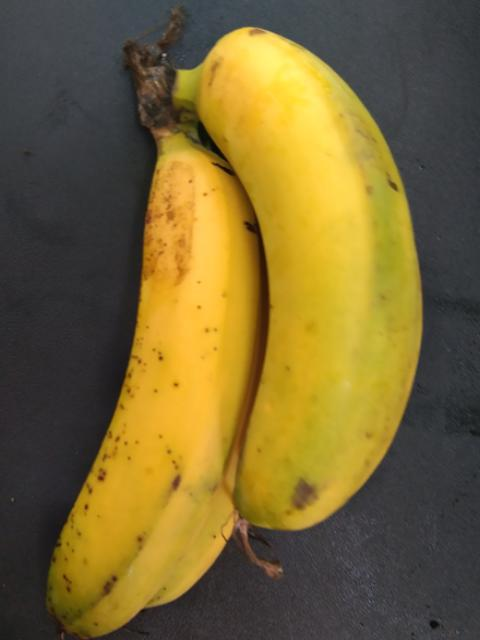freshripe: (202, 19, 462, 558)
ripe: (18, 136, 311, 639)
